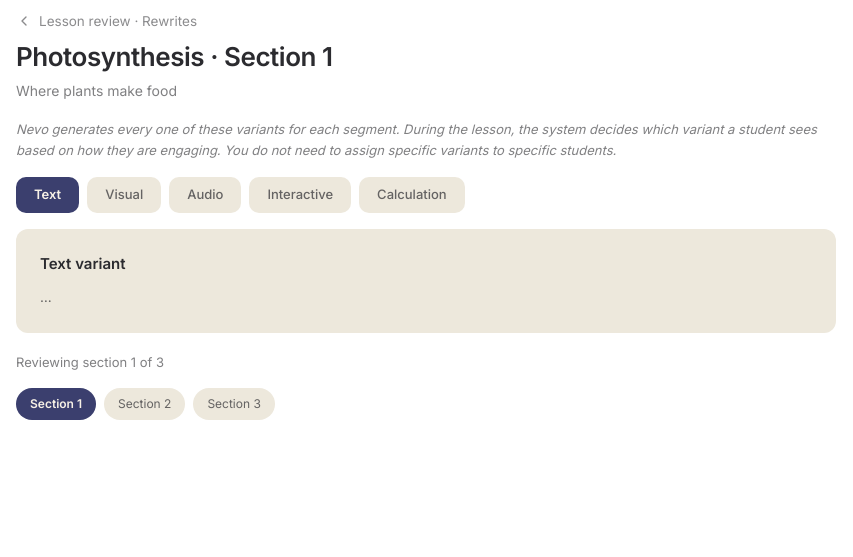
Test: the interactive version, as an activity › still draws a question, the form every earlier lesson carries
Click the tab "Interactive" at (300,195), box [249, 177, 351, 213]
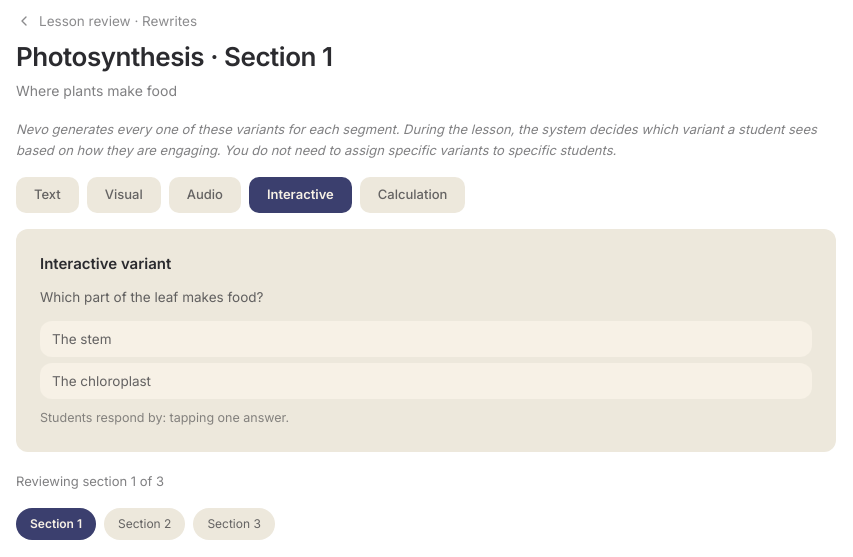
Now the text "Which part of the leaf makes food?" is shown, box [40, 289, 263, 305]
Now the list item "The chloroplast" is shown, box [40, 363, 812, 399]
Now the text "Students respond by: tapping one answer." is shown, box [40, 410, 289, 425]
